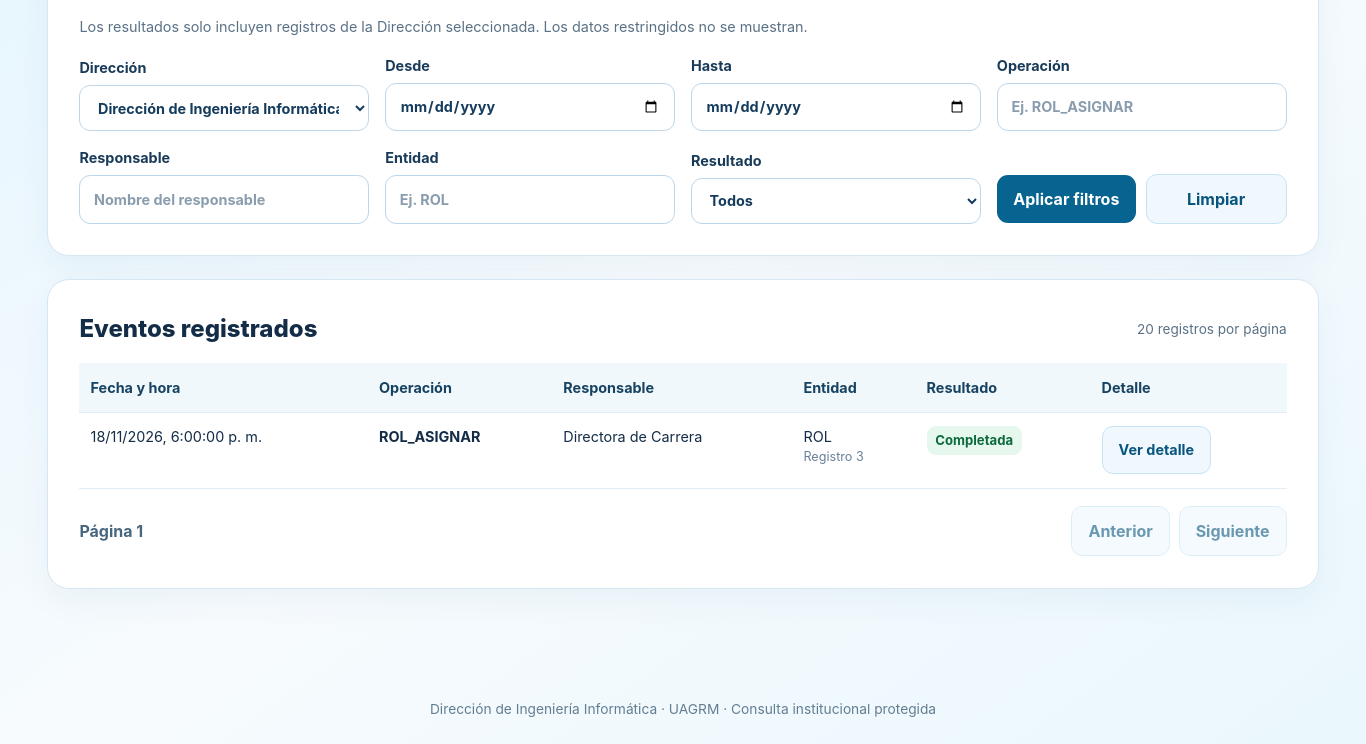
Scenario: Consulta de auditoría institucional › permite abrir el detalle depurado de un evento
(page scrolled)
Click the button with aria-label "Ver detalle del evento 3" at (1156, 450), box [1102,426,1211,474]
(page scrolled)
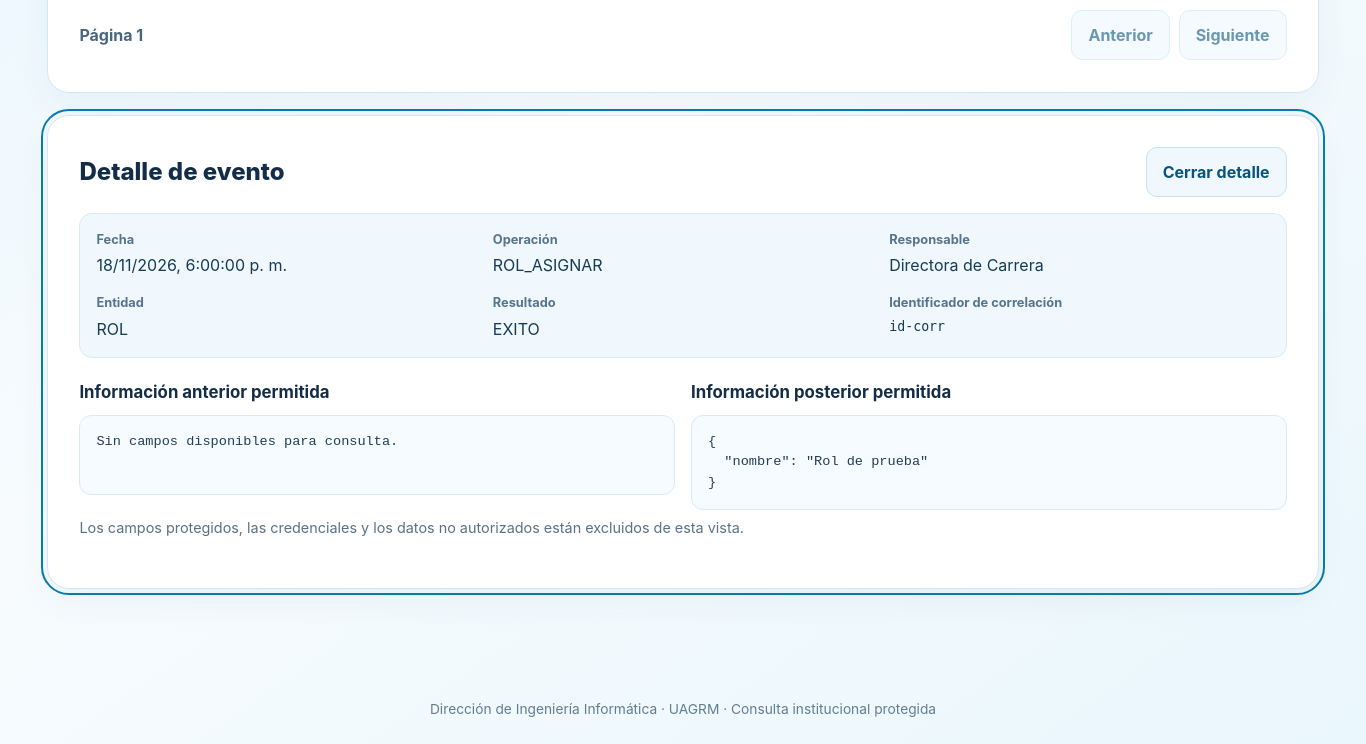
Check: the heading "Detalle de evento" is shown, box [79,154,285,190]
Check: the text "{ \"nombre\": \"Rol de prueba\" }" is shown, box [691,415,1287,510]
Check: the text "campos protegidos" is shown, box [79,519,744,536]
